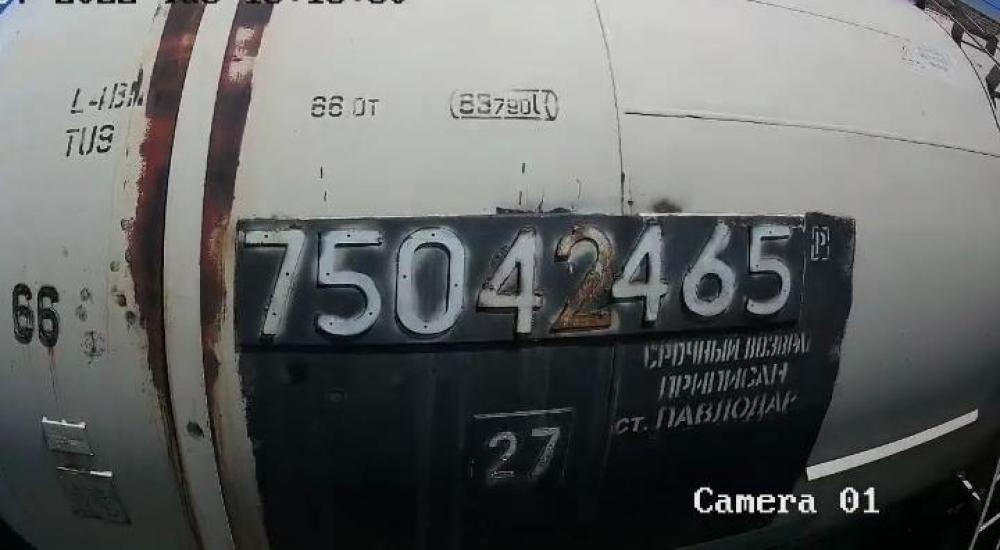Wagon-number: (239, 221, 801, 342)
